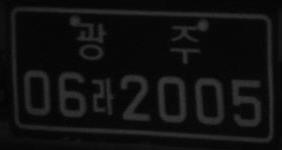0: (155, 75, 189, 124), (193, 77, 224, 125), (23, 69, 51, 116)
2: (120, 73, 152, 123)
5: (230, 77, 262, 128)
6: (57, 69, 87, 118)
광주_D: (72, 19, 202, 66)
라: (91, 77, 114, 116)
